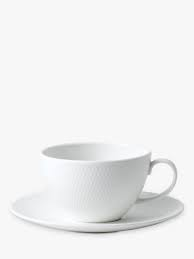cup: (38, 140, 180, 225)
